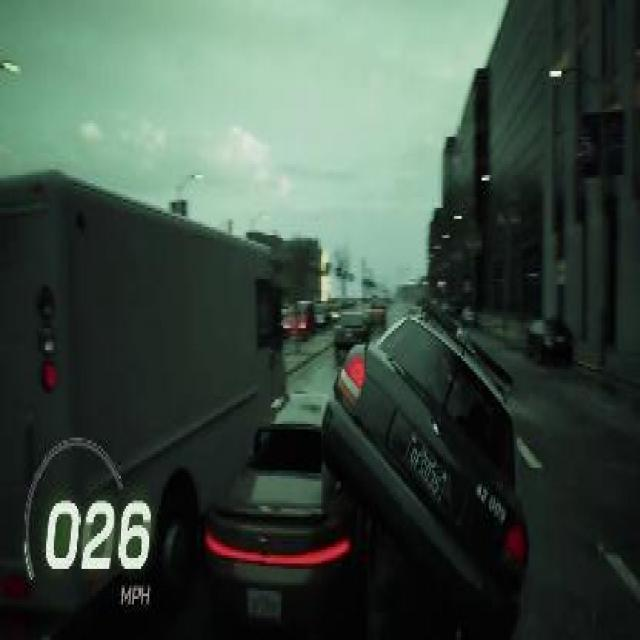accident: (189, 298, 531, 640)
